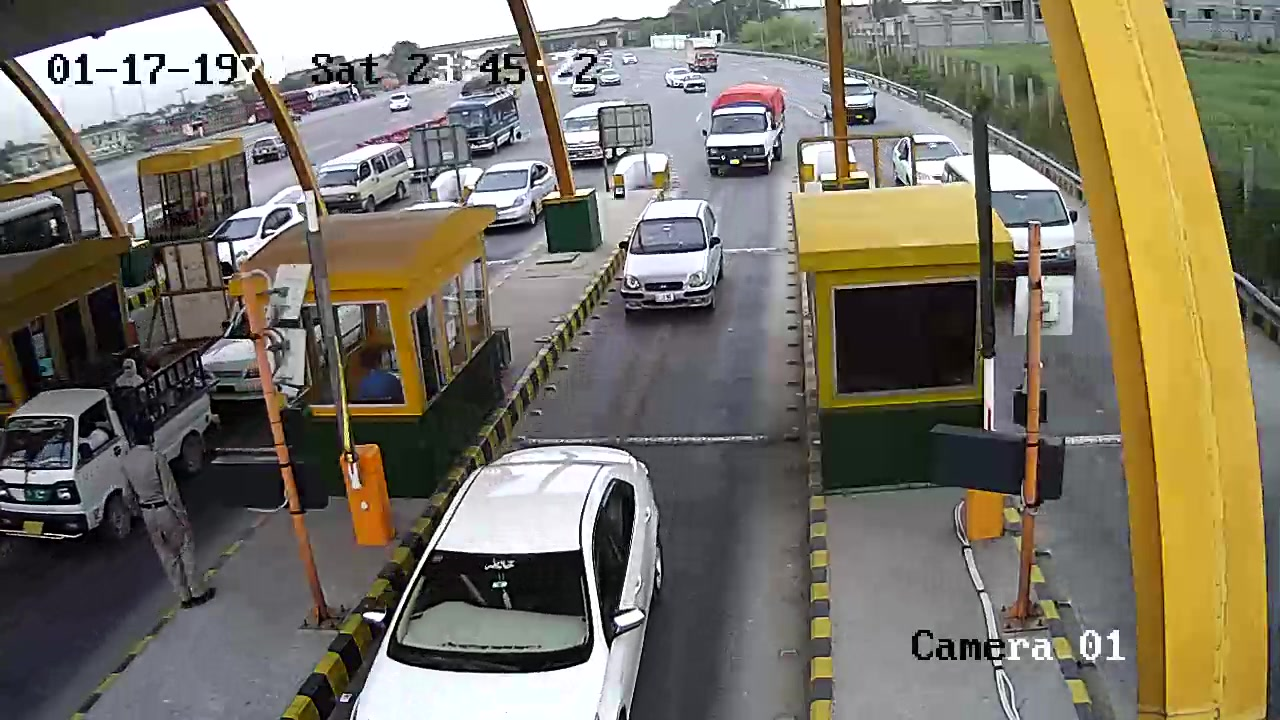F1: (613, 196, 734, 323)
